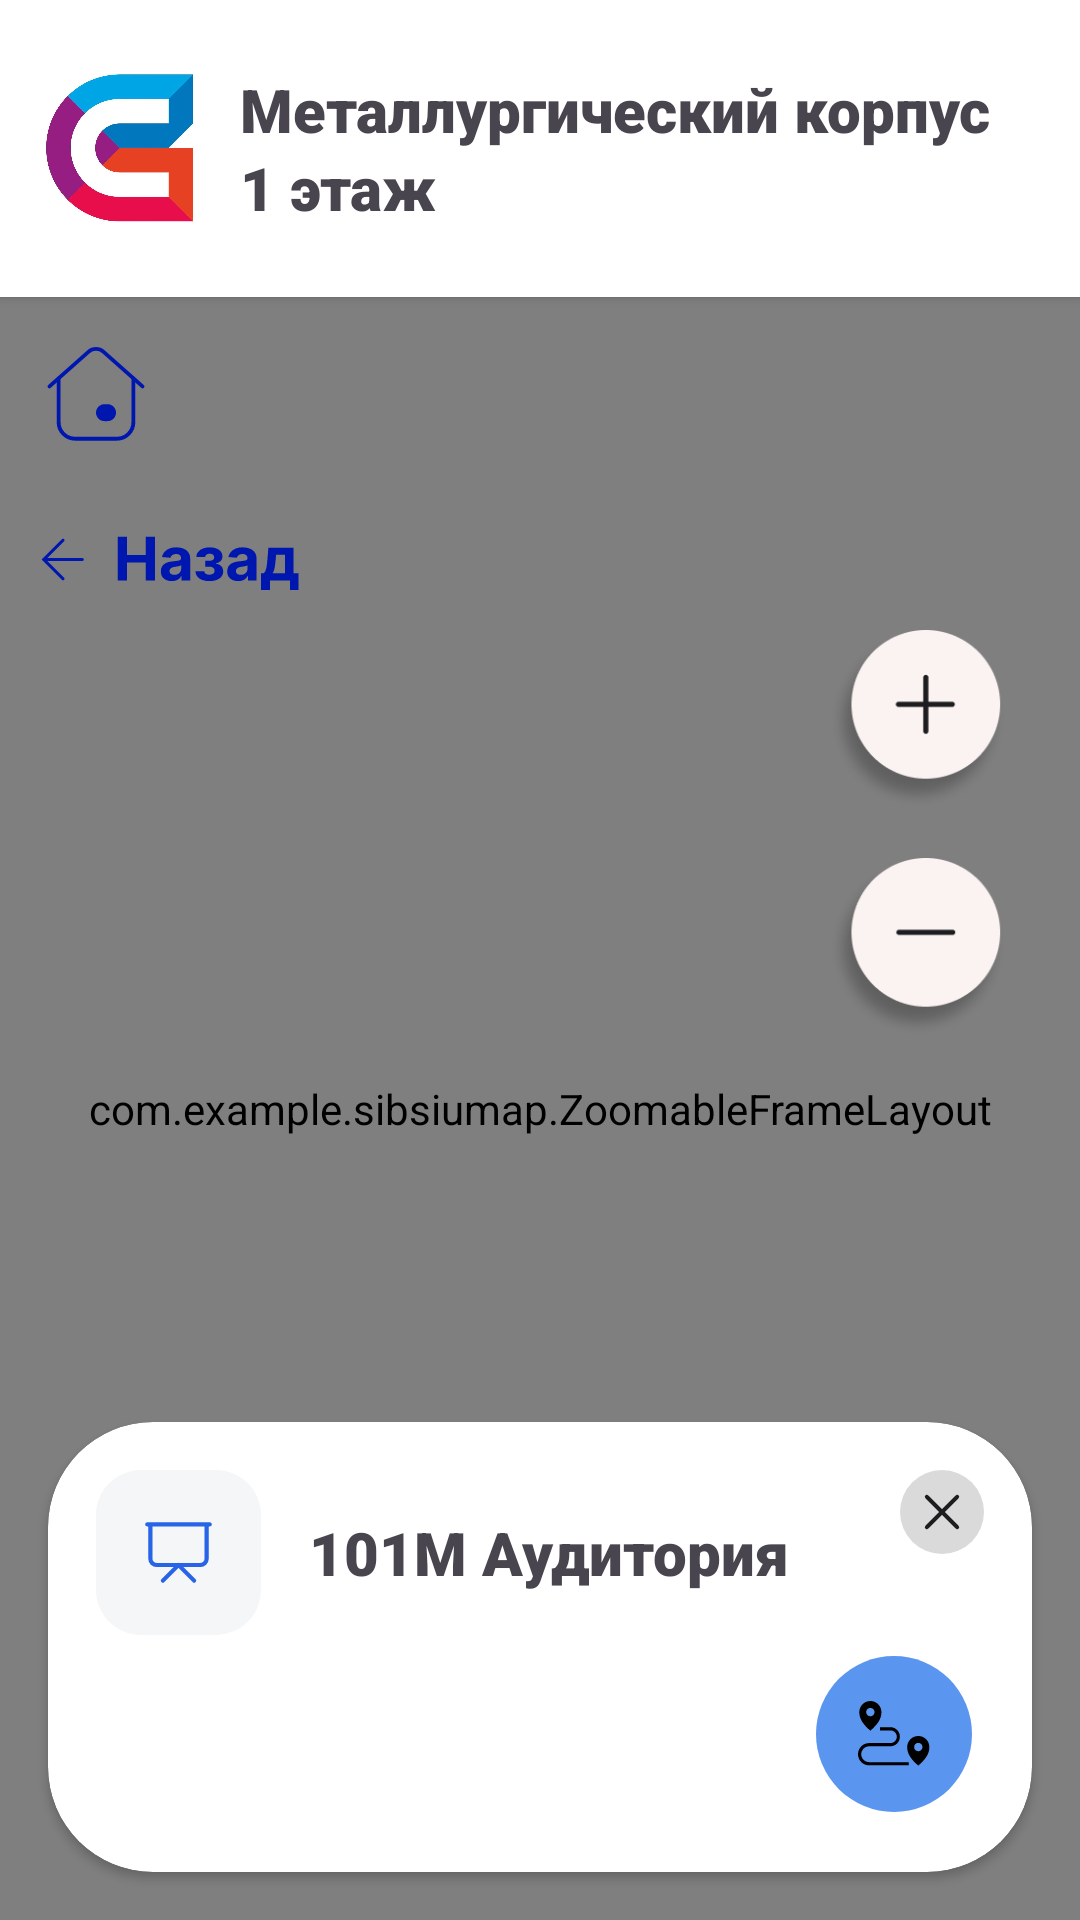

Icon bounding boxes for this 1080 × 1920 phone screenshot, format [x1, y1, x2, y2]:
close: [900, 1470, 984, 1554]
home: [47, 347, 145, 441]
minus: [849, 858, 1000, 1017]
plus: [849, 630, 1000, 789]
